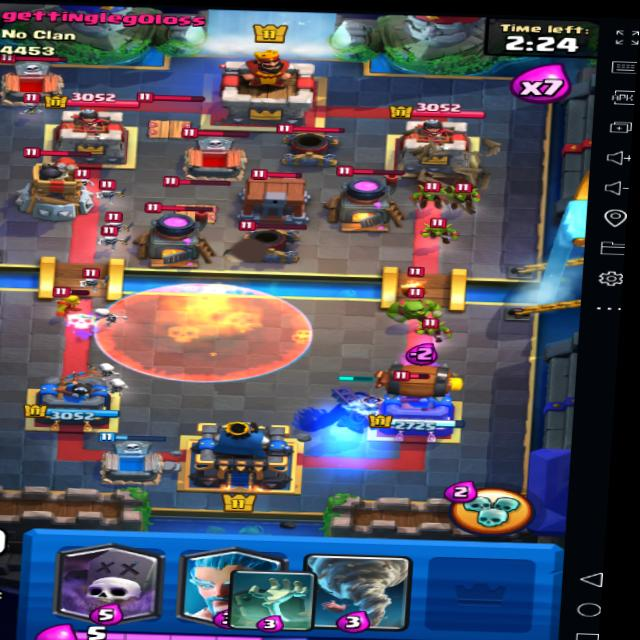Bombtower: (14, 144, 96, 222)
Firespirit: (391, 271, 439, 303)
Furnace: (134, 199, 223, 268), (326, 165, 412, 232)
Goblin: (415, 215, 464, 244), (446, 179, 489, 212), (412, 310, 454, 343), (411, 178, 451, 210), (51, 286, 92, 314)
Goblinbrawler: (380, 282, 448, 324)
Goblincage: (240, 167, 314, 221)
Mortar: (227, 212, 313, 266), (267, 118, 346, 169)
Skeleton: (92, 223, 136, 248), (72, 266, 116, 290), (172, 171, 207, 200), (103, 203, 140, 228), (92, 178, 126, 203), (16, 91, 48, 116)
Teslahidden: (128, 85, 205, 142), (162, 176, 232, 225)
Tombstone: (178, 128, 250, 180), (0, 53, 66, 107)
